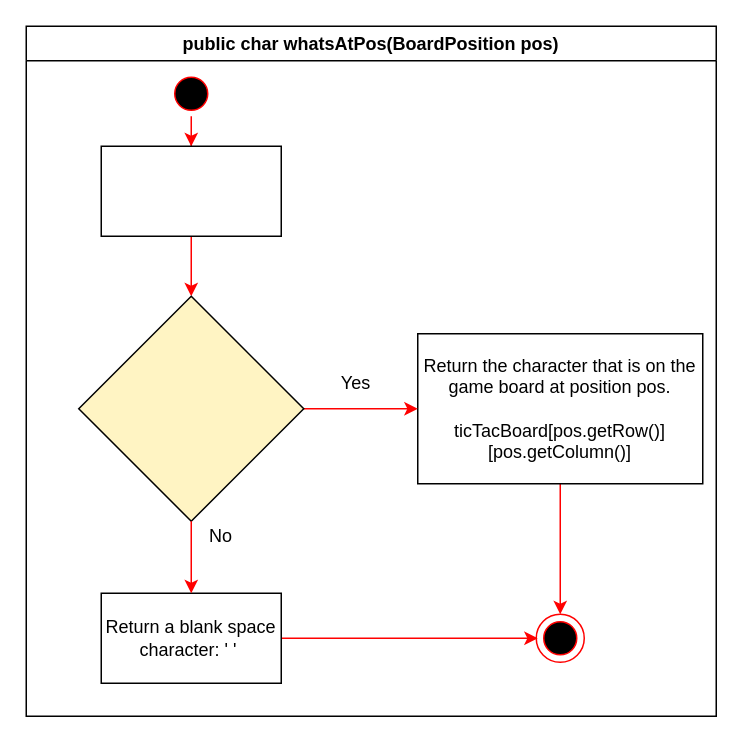
This 743x743 diagram has some shape labels left out. The shapes that lost their labels are listed below. From the top down, each one's centre as x and y in pixels, then its label:
At point 190,190: "Check what is on the game board in position pos".
At point 190,408: "Is there an X or an O in the position pos on the game board?".
